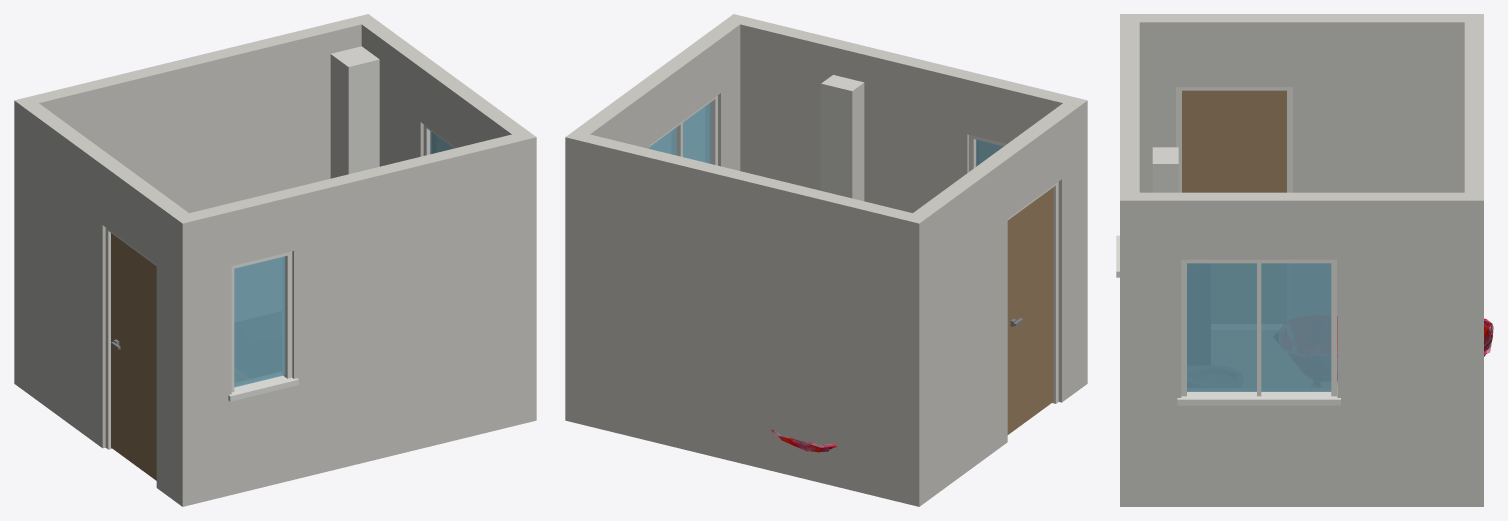
The model's file is layoutgpt.glb.
The picture shows the model from 3 angles, left to right: view 1: azimuth 30°, elevation 25°; view 2: azimuth 150°, elevation 25°; view 3: azimuth 270°, elevation 25°; orthographic projection. The views are drawn at different scales.
Parts seen in each view (by area): view 1: wall|scenesmith_060__R00|0, wall|scenesmith_060__R00|2, wall|scenesmith_060__R00|1, wall|scenesmith_060__R00|3, wall|scenesmith_060__R00|2 Door 0 | wood leaf, wall|scenesmith_060__R00|0 Window 0 | glazing, scenesmith_060__R00_4 | structural enclosure, wall|scenesmith_060__R00|0 Window 0 | jamb, wall|scenesmith_060__R00|2 Door 0 | jamb; view 2: wall|scenesmith_060__R00|1, wall|scenesmith_060__R00|2, wall|scenesmith_060__R00|0, wall|scenesmith_060__R00|3, wall|scenesmith_060__R00|2 Door 0 | wood leaf, scenesmith_060__R00_4 | structural enclosure, wall|scenesmith_060__R00|3 Window 0 | glazing, wall|scenesmith_060__R00|2 Door 0 | jamb, wall|scenesmith_060__R00|3 Window 0 | jamb; view 3: wall|scenesmith_060__R00|3, wall|scenesmith_060__R00|2, wall|scenesmith_060__R00|3 Window 0 | glazing, wall|scenesmith_060__R00|2 Door 0 | wood leaf, wall|scenesmith_060__R00|1, wall|scenesmith_060__R00|0, wall|scenesmith_060__R00|3 Window 0 | jamb, wall|scenesmith_060__R00|2 Door 0 | jamb, scenesmith_060__R00_4 | structural enclosure.
Boxes of the visible parts, left/top/right/bottom form: wall|scenesmith_060__R00|0: left=173, top=134, right=520, bottom=506; wall|scenesmith_060__R00|2: left=23, top=103, right=198, bottom=506; wall|scenesmith_060__R00|1: left=14, top=14, right=376, bottom=389; wall|scenesmith_060__R00|3: left=361, top=20, right=536, bottom=424; wall|scenesmith_060__R00|2 Door 0 | wood leaf: left=111, top=233, right=156, bottom=480; wall|scenesmith_060__R00|0 Window 0 | glazing: left=234, top=256, right=285, bottom=387; scenesmith_060__R00_4 | structural enclosure: left=330, top=46, right=379, bottom=178; wall|scenesmith_060__R00|0 Window 0 | jamb: left=228, top=251, right=298, bottom=401; wall|scenesmith_060__R00|2 Door 0 | jamb: left=105, top=227, right=156, bottom=449; wall|scenesmith_060__R00|1: left=565, top=130, right=928, bottom=506; wall|scenesmith_060__R00|2: left=903, top=103, right=1078, bottom=506; wall|scenesmith_060__R00|0: left=740, top=18, right=1087, bottom=389; wall|scenesmith_060__R00|3: left=574, top=14, right=748, bottom=170; wall|scenesmith_060__R00|2 Door 0 | wood leaf: left=1007, top=187, right=1053, bottom=434; scenesmith_060__R00_4 | structural enclosure: left=821, top=75, right=864, bottom=201; wall|scenesmith_060__R00|3 Window 0 | glazing: left=649, top=102, right=711, bottom=163; wall|scenesmith_060__R00|2 Door 0 | jamb: left=1007, top=182, right=1058, bottom=403; wall|scenesmith_060__R00|3 Window 0 | jamb: left=649, top=95, right=717, bottom=165; wall|scenesmith_060__R00|3: left=1120, top=192, right=1464, bottom=506; wall|scenesmith_060__R00|2: left=1139, top=14, right=1464, bottom=315; wall|scenesmith_060__R00|3 Window 0 | glazing: left=1187, top=263, right=1331, bottom=391; wall|scenesmith_060__R00|2 Door 0 | wood leaf: left=1182, top=90, right=1286, bottom=192; wall|scenesmith_060__R00|1: left=1464, top=14, right=1483, bottom=506; wall|scenesmith_060__R00|0: left=1120, top=14, right=1139, bottom=506; wall|scenesmith_060__R00|3 Window 0 | jamb: left=1177, top=259, right=1340, bottom=405; wall|scenesmith_060__R00|2 Door 0 | jamb: left=1176, top=87, right=1292, bottom=192; scenesmith_060__R00_4 | structural enclosure: left=1152, top=147, right=1178, bottom=192.
Size of the model in its own units: 3.43 by 2.61 by 2.9.
Materials: 13 (5 with a texture image).
